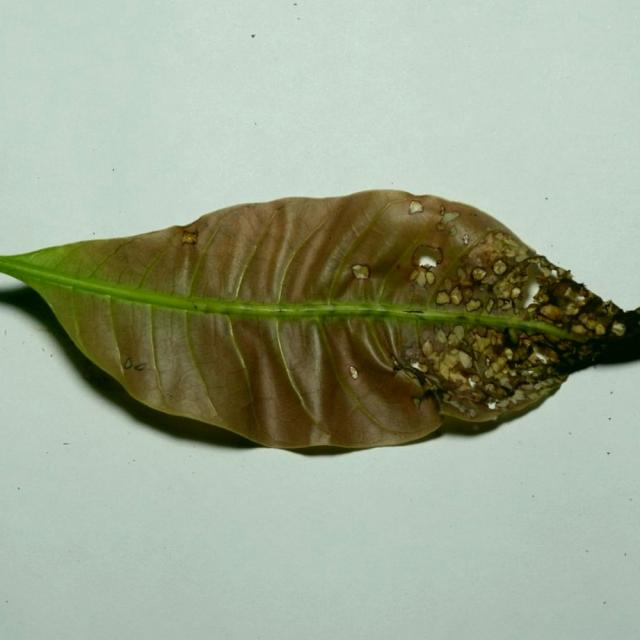Anthracnose: (413, 320, 547, 417), (434, 249, 515, 314), (390, 352, 435, 405), (538, 275, 592, 318), (411, 246, 448, 288), (478, 229, 521, 258), (437, 350, 468, 378), (443, 394, 479, 418), (433, 204, 460, 233), (472, 332, 498, 357), (538, 303, 565, 321), (456, 366, 482, 382), (525, 261, 546, 279), (350, 263, 372, 280), (531, 345, 551, 363), (403, 343, 423, 361), (503, 328, 520, 348), (123, 357, 146, 371), (181, 229, 199, 246), (408, 200, 424, 214), (611, 322, 626, 336), (411, 361, 428, 373), (453, 324, 464, 337), (409, 269, 420, 282), (349, 366, 359, 379), (436, 221, 446, 231), (124, 358, 133, 369), (439, 205, 446, 216), (396, 264, 403, 272)
Mango: (0, 189, 639, 458)
